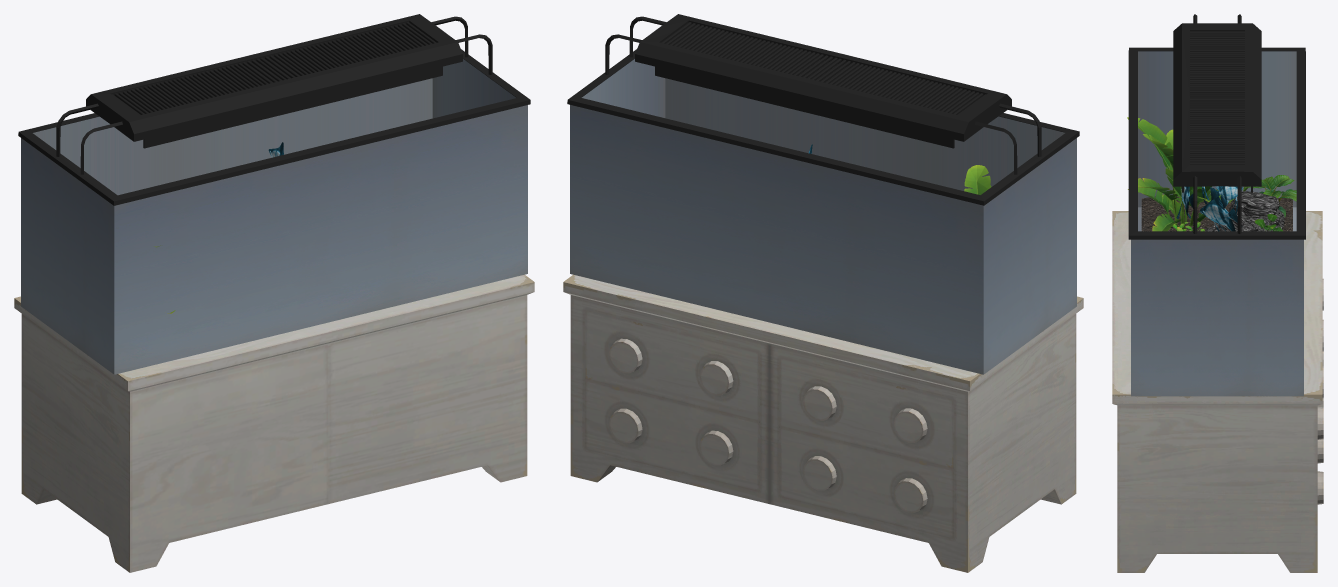
Rendered from P_FishTank.obj.
3 views of the same model, side by side, from view 1: azimuth 30°, elevation 25°; view 2: azimuth 150°, elevation 25°; view 3: azimuth 270°, elevation 25° (orthographic). The views are drawn at different scales.
Bounding box in the file's own units: 2.01 × 1.93 × 0.9567.
34 materials, 33 textured.
